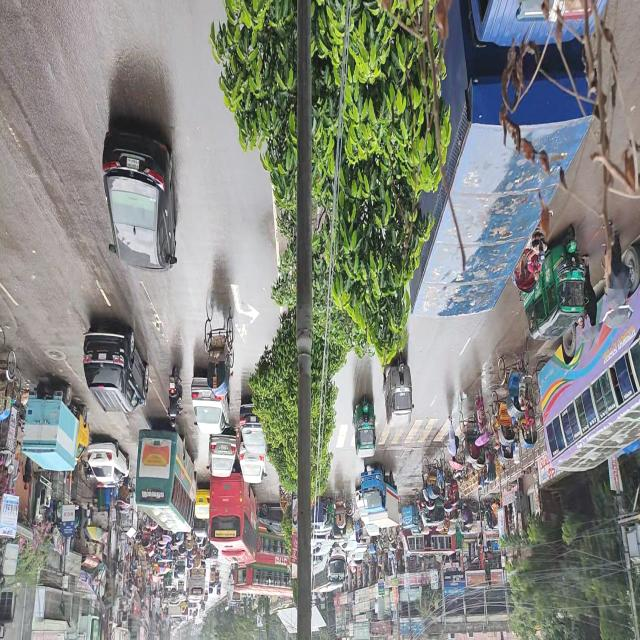black: (103, 125, 177, 268), (84, 324, 149, 412), (240, 398, 268, 456)
silver: (191, 372, 230, 437), (208, 428, 236, 478)
white: (89, 439, 130, 490), (239, 441, 264, 485)
